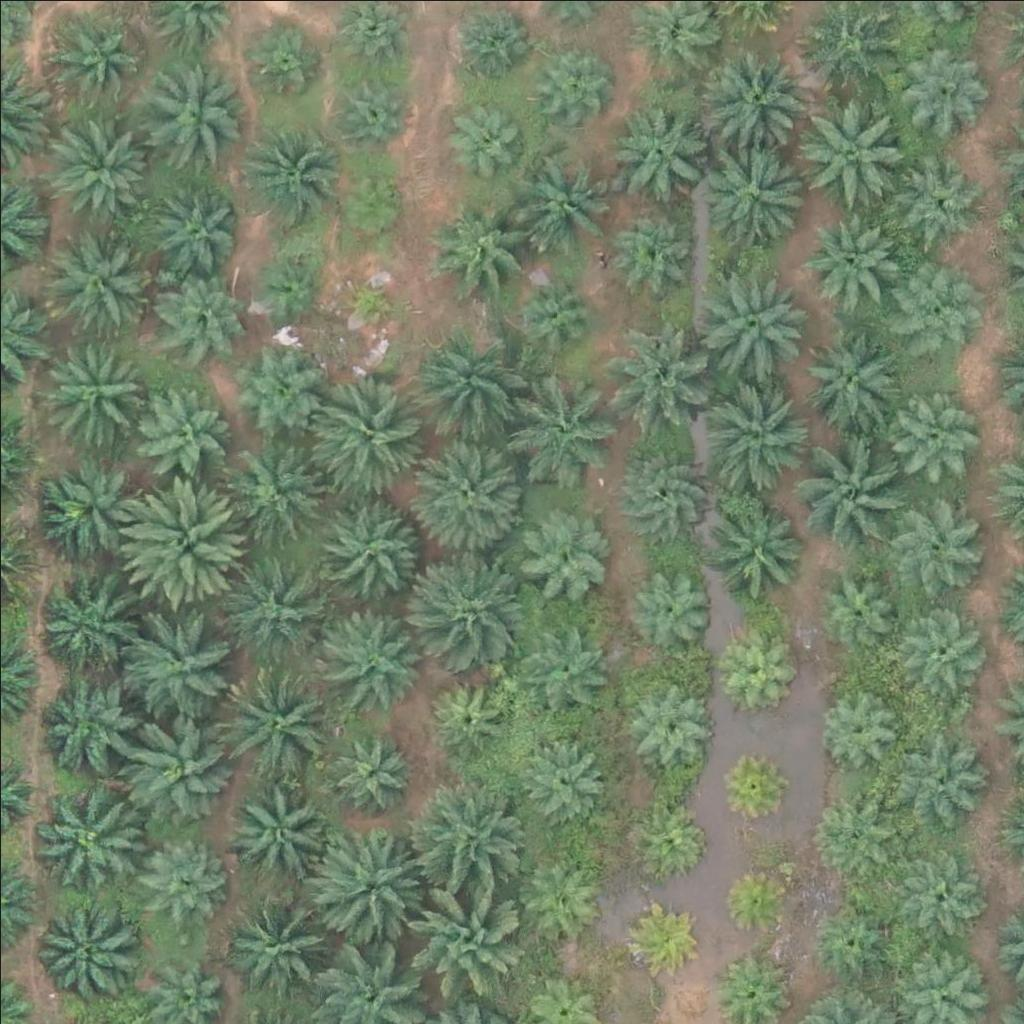Kelapa_Sawit: (115, 477, 240, 603), (125, 611, 238, 725), (701, 268, 814, 382), (224, 882, 337, 996), (223, 664, 336, 777), (219, 552, 332, 665), (312, 497, 425, 610), (415, 436, 528, 549), (696, 42, 809, 155), (704, 138, 817, 251), (31, 781, 144, 894), (408, 779, 521, 892), (118, 706, 231, 819), (416, 333, 528, 447), (699, 372, 811, 486), (797, 95, 909, 209), (26, 895, 138, 1009), (403, 874, 515, 988), (320, 596, 432, 709), (315, 379, 427, 492), (418, 545, 530, 658), (605, 328, 717, 441), (801, 434, 913, 547), (313, 832, 425, 945), (31, 572, 131, 673), (45, 335, 145, 436), (50, 223, 150, 324), (54, 115, 154, 216), (228, 443, 328, 544), (226, 342, 326, 443), (434, 194, 534, 295), (520, 145, 620, 246), (520, 373, 620, 474), (610, 97, 710, 198), (707, 497, 807, 598), (804, 329, 904, 430), (883, 492, 983, 593), (225, 779, 325, 880), (887, 728, 987, 829), (235, 128, 335, 229), (36, 666, 136, 766), (46, 466, 146, 566), (143, 64, 243, 164), (513, 508, 613, 608), (615, 440, 715, 540), (158, 268, 246, 356), (425, 671, 513, 759), (511, 269, 599, 357), (630, 678, 718, 766), (804, 209, 892, 297), (902, 41, 990, 129), (904, 606, 992, 694), (808, 898, 896, 986), (808, 780, 896, 868), (325, 726, 413, 814), (517, 847, 605, 935), (897, 850, 985, 938), (156, 180, 243, 269), (526, 620, 613, 709), (49, 10, 136, 98), (141, 388, 228, 476), (324, 66, 411, 154), (629, 562, 716, 650), (607, 200, 694, 288), (813, 682, 900, 770), (816, 558, 903, 646), (902, 163, 989, 251), (893, 275, 980, 363), (890, 390, 977, 478), (135, 832, 222, 920), (519, 738, 606, 826), (636, 804, 711, 880), (453, 95, 528, 171), (451, 7, 526, 83), (252, 247, 327, 323), (333, 160, 408, 236), (719, 624, 794, 700), (714, 751, 789, 827), (621, 900, 696, 976), (245, 26, 320, 101), (533, 41, 608, 116), (719, 862, 794, 937), (339, 272, 401, 335)
